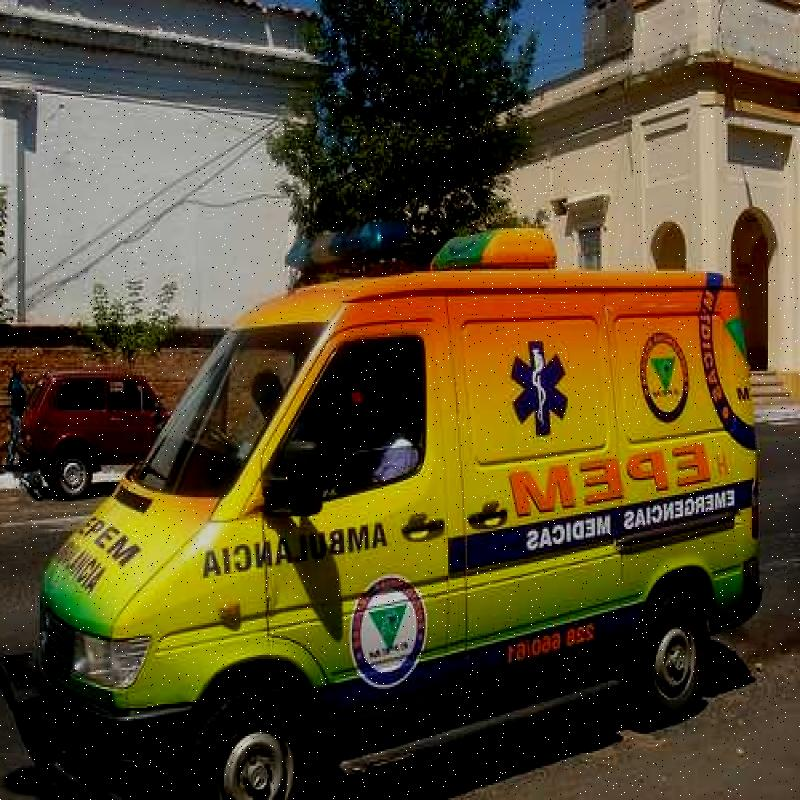AmbulanceSiren: (291, 210, 413, 274)
